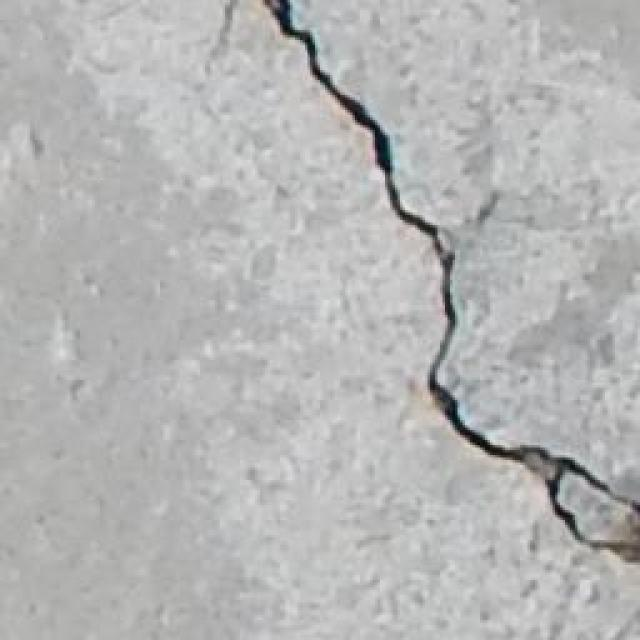concrete-crack: (260, 0, 640, 563)
